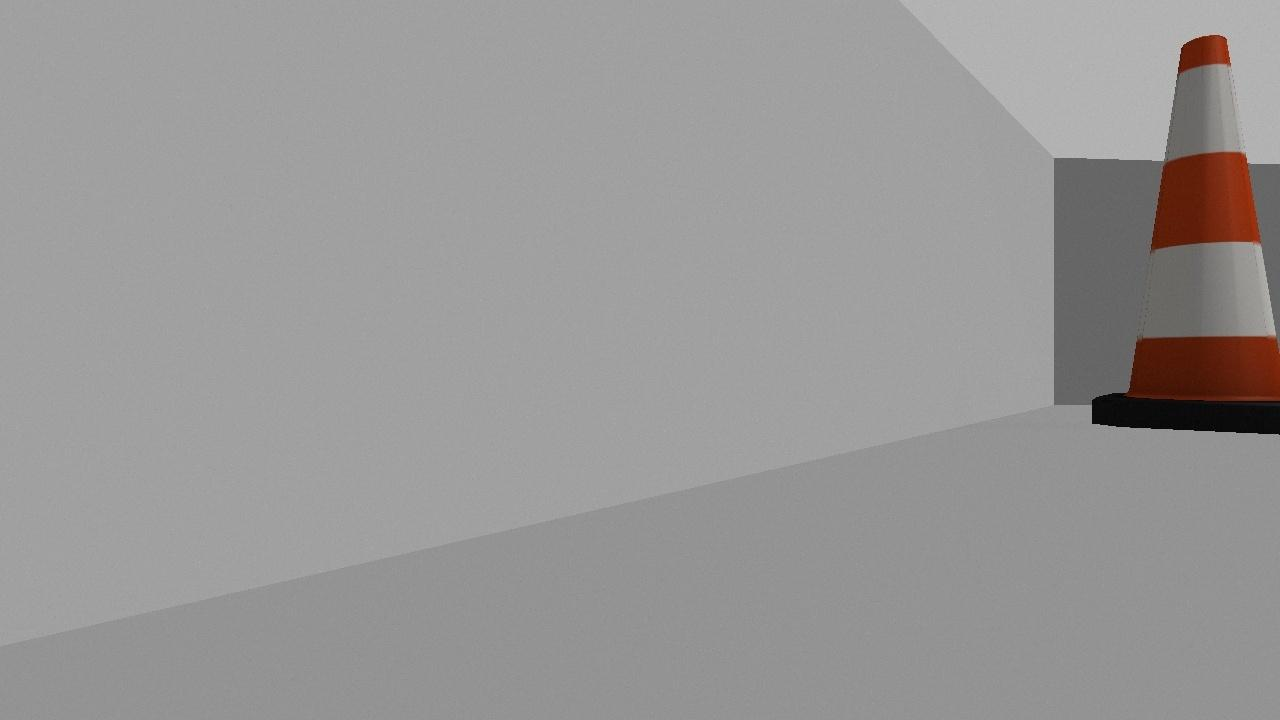cone_barrel: (1089, 34, 1279, 434)
